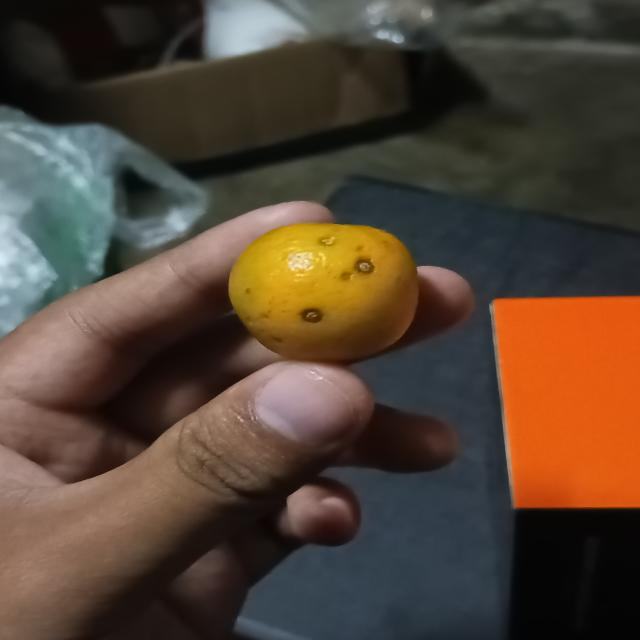black spot: (226, 218, 426, 367)
